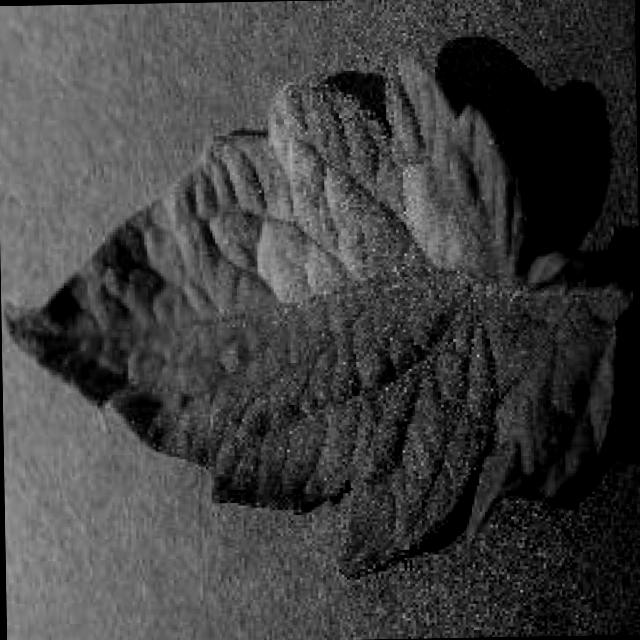leaf mold: (12, 47, 633, 574)
